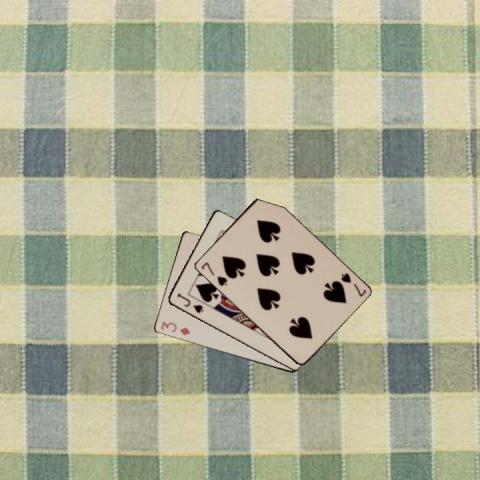3d: (158, 318, 192, 336)
7s: (198, 260, 229, 288), (338, 270, 368, 298)
Js: (173, 290, 205, 315)
